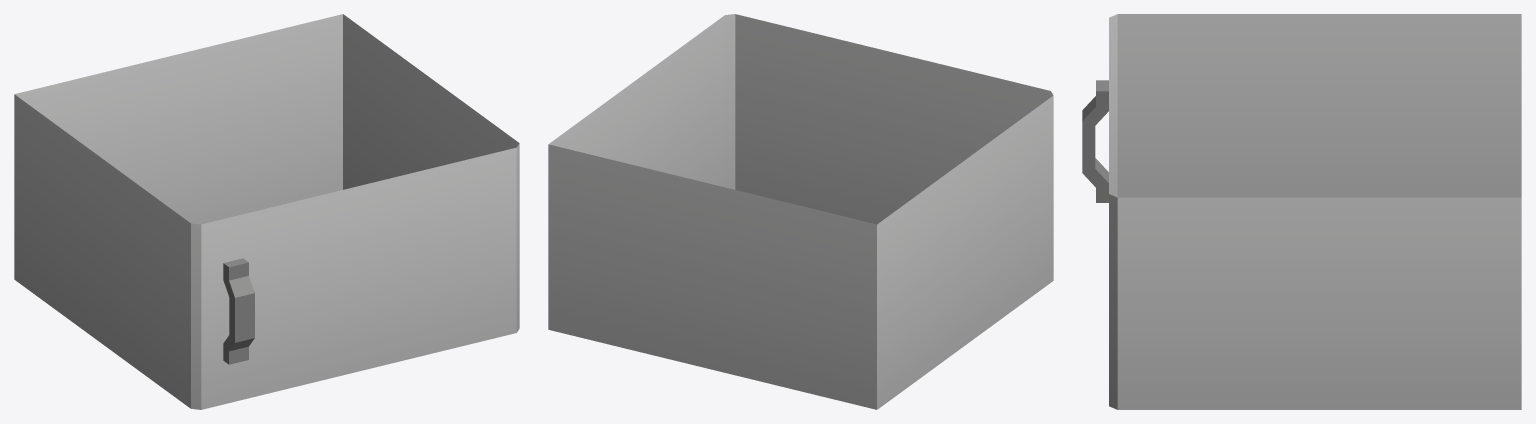
The model's file is Counter_01_v04_C02.fbx.
The picture shows the model from 3 angles, left to right: view 1: azimuth 30°, elevation 25°; view 2: azimuth 150°, elevation 25°; view 3: azimuth 270°, elevation 25°; orthographic projection. The views are drawn at different scales.
Parts seen in each view (by area): view 1: Counter_01_v04_C02; view 2: Counter_01_v04_C02; view 3: Counter_01_v04_C02.
Boxes of the visible parts, x1,y1,x2,y2 form: Counter_01_v04_C02: (14,14,519,409); Counter_01_v04_C02: (548,14,1053,409); Counter_01_v04_C02: (1082,14,1521,409).
Bounding box in the file's own units: 100 × 53.91 × 101.
